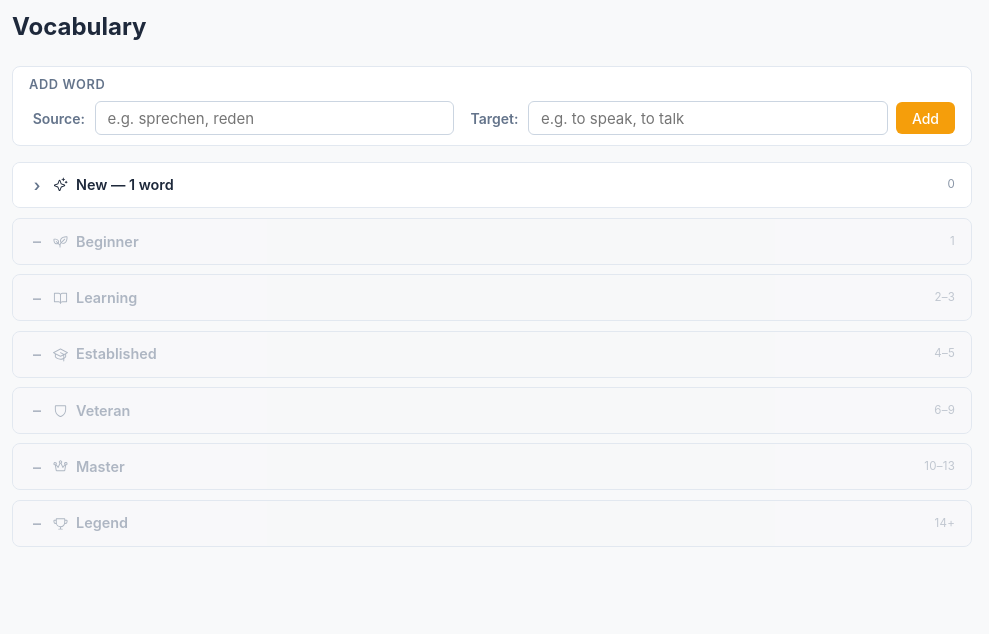
VocabListScreen › renders each source or target variant as a separate dictionary link
This screenshot has width=989, height=634.
Click the heading "New — 1 word 0" at {"x": 92, "y": 185}, box [13,163,971,207]
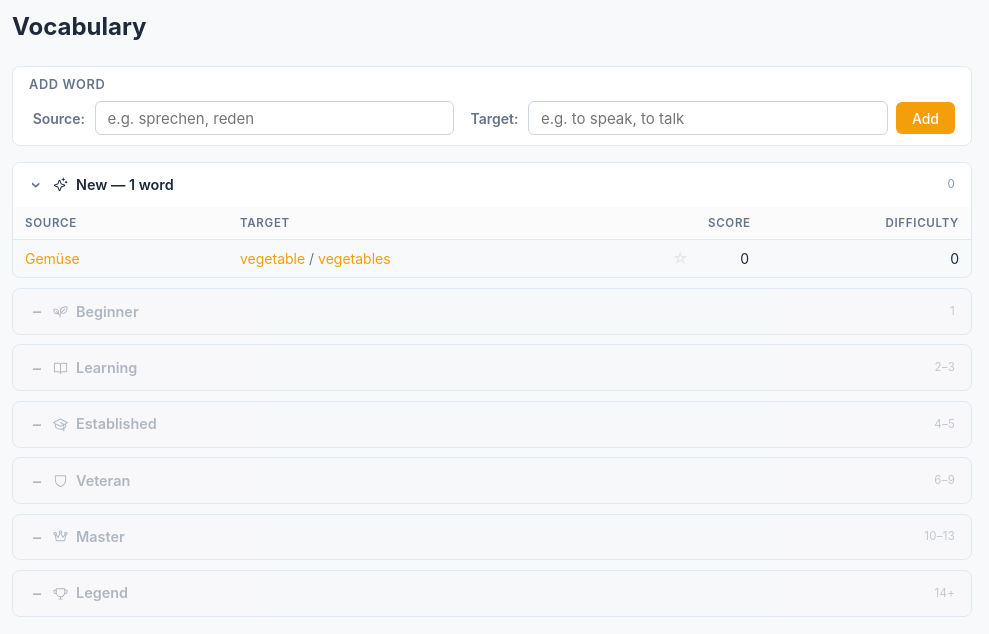
Expected: the link "Gemüse" is shown, [25,250,80,267]
Expected: the link "vegetable" is shown, [240,250,305,267]
Expected: the link "vegetables" is shown, [318,250,391,267]
